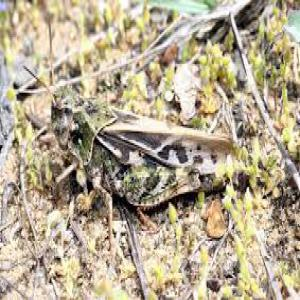locust: (46, 72, 237, 207)
